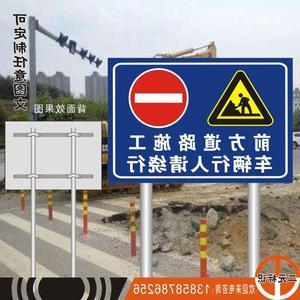sign: (112, 59, 290, 179)
